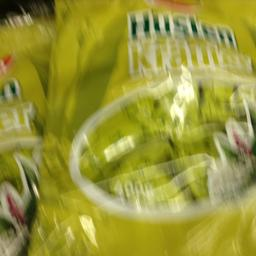candy: (55, 4, 255, 252)
